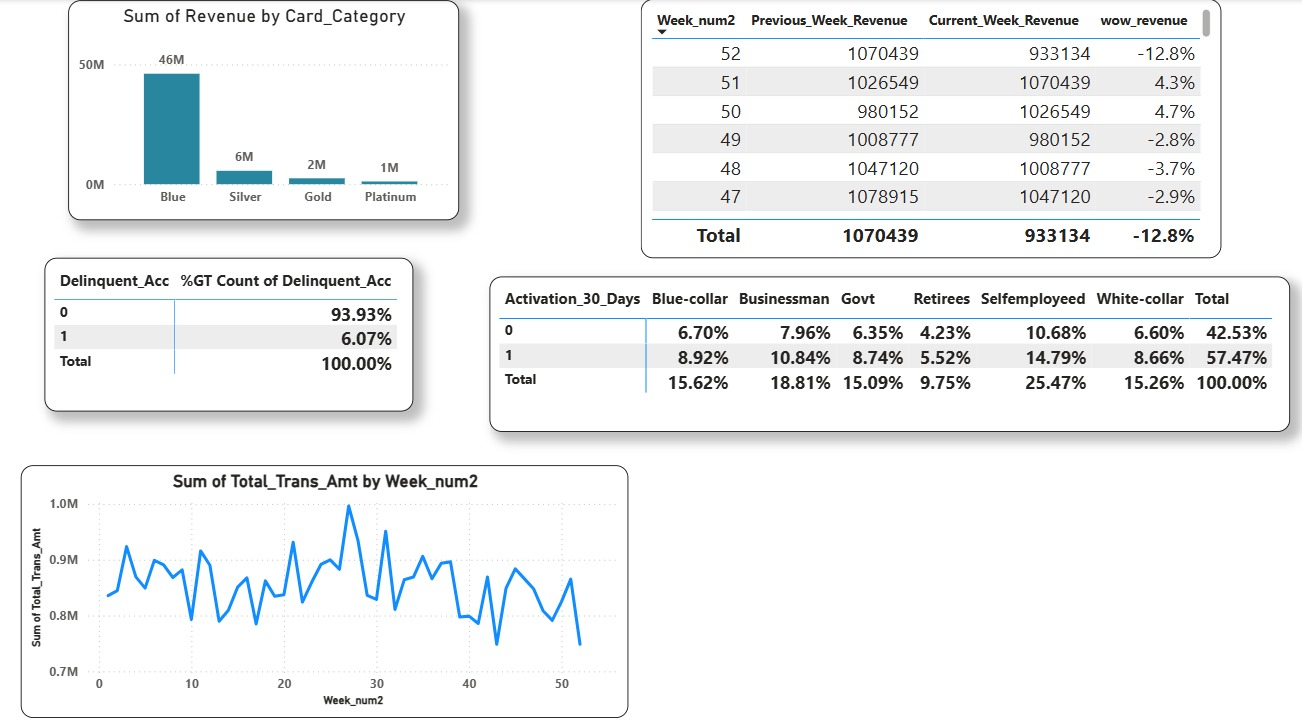

What the dashboard file says about the page in this screenshot:
{"tool":"powerbi","page":{"name":"Page 1","canvas":[1280,720],"ordinal":0},"visuals":[{"type":"clusteredColumnChart","fields":{"Category":["public cc_details.Card_Category"],"Y":["Sum(public cc_details.Revenue)"]},"box":[69.6,1.7,382.6,215.3],"z":0},{"type":"tableEx","fields":{"Values":["public cc_details.Week_num2","public cc_details.Previous_Week_Revenue","public cc_details.Current_Week_Revenue","public cc_details.wow_revenue"]},"box":[629.5,0,568.2,253.4],"z":1000},{"type":"pivotTable","fields":{"Rows":["public cc_details.Delinquent_Acc"],"Values":["Sum(public cc_details.Delinquent_Acc)"]},"box":[46,253,361,150],"z":2000},{"type":"lineChart","fields":{"Category":["public cc_details.Week_num2","public cc_details.Week_Start_Date.Variation.Date Hierarchy.Month","public cc_details.Week_Start_Date.Variation.Date Hierarchy.Day"],"Y":["Sum(public cc_details.Total_Trans_Amt)"]},"box":[23.2,455.5,594.7,246.8],"z":3000},{"type":"pivotTable","fields":{"Columns":["public cust_details.Customer_Job"],"Rows":["public cc_details.Activation_30_Days"],"Values":["Sum(public cc_details.Activation_30_Days)"]},"box":[482,271.7,783.5,152.4],"z":4000}]}

Visuals, with their boxes in screenshot pixels (x1, y1, x2, y2), scaled from the page's 1280x720 canvas onto the 1302x722 screenshot:
clusteredColumnChart - public cc_details.Card_Category x Sum(public cc_details.Revenue): bbox=[71, 2, 460, 218]
tableEx - public cc_details.Week_num2 x public cc_details.Previous_Week_Revenue: bbox=[640, 0, 1218, 254]
pivotTable - public cc_details.Delinquent_Acc x Sum(public cc_details.Delinquent_Acc): bbox=[47, 254, 414, 404]
lineChart - public cc_details.Week_num2 x public cc_details.Week_Start_Date.Variation.Date Hierarchy.Month: bbox=[24, 457, 629, 704]
pivotTable - public cust_details.Customer_Job x public cc_details.Activation_30_Days: bbox=[490, 272, 1287, 425]
